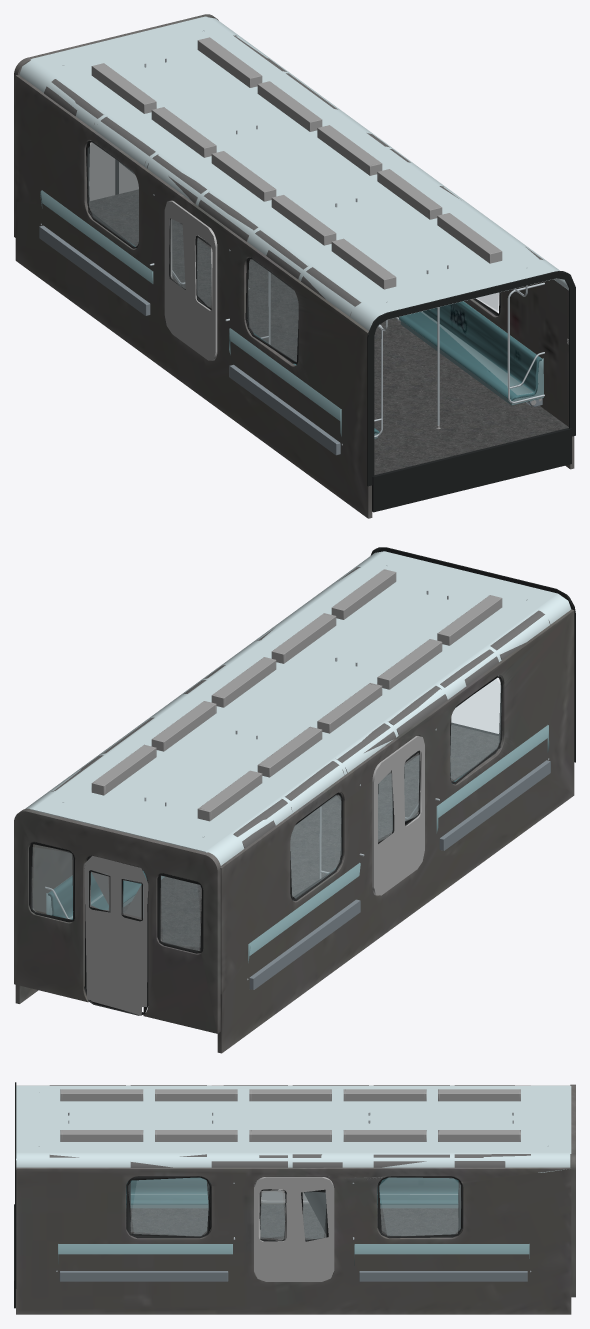
Rendered from subway.glb.
The picture shows the model from 3 angles, top to bottom: view 1: azimuth 30°, elevation 25°; view 2: azimuth 150°, elevation 25°; view 3: azimuth 270°, elevation 25°; orthographic projection. The views are drawn at different scales.
Visible parts, largest first — view 1: Roof_roof_0, Back_Wall_Back_Wall_walls_0, floor_tex_floor_0, Air_ventL_metal_0, floorparting_divider_0, Glass_window_Door_glass_0, Door__0, Bench_top_Textured_bench_0, Bench_Sides_benchinside_0, Billboards_2_billboards_0, Bench_underneath_bench_under_0, Rubber_window_door_rubber_0 (+1 smaller); view 2: Back_Wall_Back_Wall_walls_0, Roof_roof_0, Glass_window_Door_glass_0, Door__0, Air_ventL_metal_0, floor_tex_floor_0, Billboards_2_billboards_0, Rubber_window_door_rubber_0, Bench_underneath_bench_under_0, Bench_Sides_benchinside_0, floorparting_divider_0, Bench_top_Textured_bench_0; view 3: Back_Wall_Back_Wall_walls_0, Roof_roof_0, Glass_window_Door_glass_0, Air_ventL_metal_0, Door__0, floor_tex_floor_0, Bench_Sides_benchinside_0, Bench_top_Textured_bench_0, Bench_underneath_bench_under_0, Billboards_2_billboards_0, Rubber_window_door_rubber_0, floorparting_divider_0.
Part boxes in pixels (x1=…): Roof_roof_0: x1=19, y1=16, x2=568, y2=330; Back_Wall_Back_Wall_walls_0: x1=14, y1=14, x2=574, y2=518; floor_tex_floor_0: x1=88, y1=189, x2=568, y2=475; Air_ventL_metal_0: x1=91, y1=37, x2=568, y2=429; floorparting_divider_0: x1=367, y1=271, x2=575, y2=512; Glass_window_Door_glass_0: x1=87, y1=143, x2=498, y2=361; Door__0: x1=89, y1=140, x2=217, y2=360; Bench_top_Textured_bench_0: x1=127, y1=240, x2=542, y2=433; Bench_Sides_benchinside_0: x1=40, y1=190, x2=543, y2=438; Billboards_2_billboards_0: x1=44, y1=35, x2=542, y2=316; Bench_underneath_bench_under_0: x1=39, y1=225, x2=542, y2=455; Rubber_window_door_rubber_0: x1=86, y1=140, x2=500, y2=364; Back_Wall_Back_Wall_walls_0: x1=14, y1=609, x2=574, y2=1053; Roof_roof_0: x1=25, y1=551, x2=571, y2=865; Glass_window_Door_glass_0: x1=32, y1=678, x2=500, y2=950; Door__0: x1=84, y1=736, x2=424, y2=1015; Air_ventL_metal_0: x1=91, y1=569, x2=502, y2=821; floor_tex_floor_0: x1=123, y1=725, x2=498, y2=950; Billboards_2_billboards_0: x1=51, y1=567, x2=550, y2=848; Rubber_window_door_rubber_0: x1=29, y1=676, x2=503, y2=1015; Bench_underneath_bench_under_0: x1=249, y1=760, x2=550, y2=989; Bench_Sides_benchinside_0: x1=46, y1=725, x2=549, y2=962; floorparting_divider_0: x1=370, y1=547, x2=575, y2=762; Bench_top_Textured_bench_0: x1=48, y1=770, x2=469, y2=919; Back_Wall_Back_Wall_walls_0: x1=16, y1=1084, x2=575, y2=1314; Roof_roof_0: x1=16, y1=1085, x2=571, y2=1172; Glass_window_Door_glass_0: x1=128, y1=1177, x2=460, y2=1239; Air_ventL_metal_0: x1=60, y1=1089, x2=520, y2=1141; Door__0: x1=254, y1=1177, x2=334, y2=1281; floor_tex_floor_0: x1=126, y1=1204, x2=462, y2=1239; Bench_Sides_benchinside_0: x1=58, y1=1194, x2=529, y2=1265; Bench_top_Textured_bench_0: x1=126, y1=1177, x2=458, y2=1204; Bench_underneath_bench_under_0: x1=59, y1=1271, x2=527, y2=1281; Billboards_2_billboards_0: x1=49, y1=1085, x2=530, y2=1167; Rubber_window_door_rubber_0: x1=126, y1=1176, x2=462, y2=1241; floorparting_divider_0: x1=14, y1=1082, x2=16, y2=1308.
Size of the model in its own units: 422 by 389 by 1214.
Materials: 15 (3 with a texture image).
